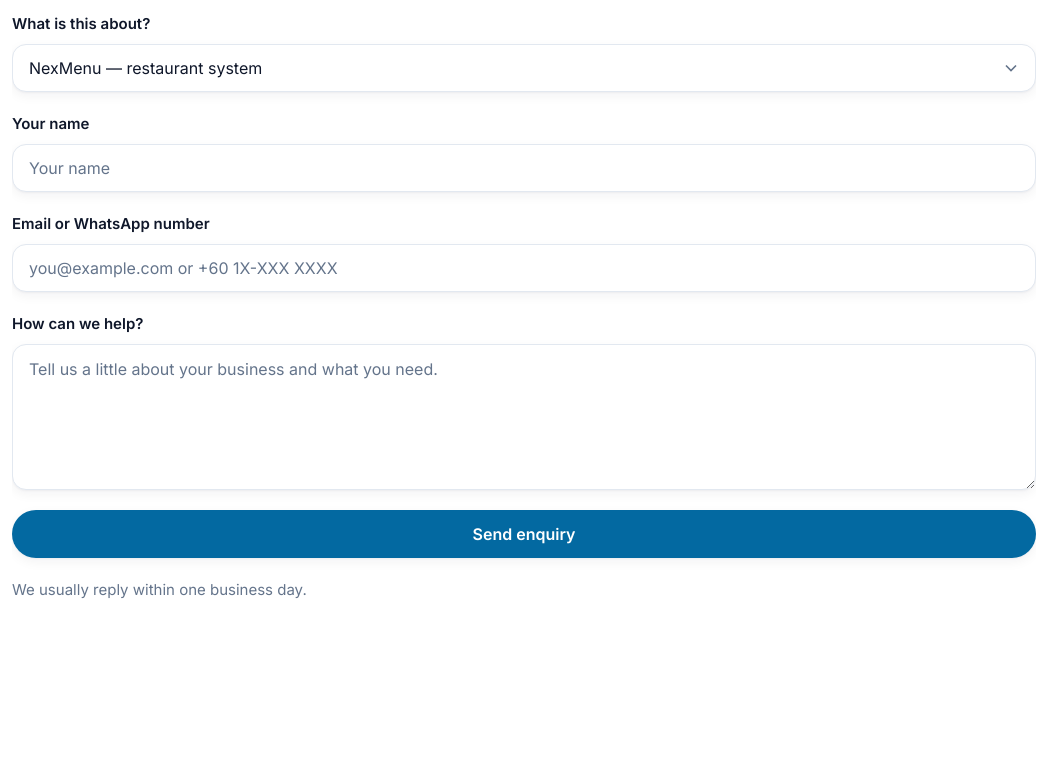
ContactForm › blocks submission and reports accessible errors when fields are invalid
Click the button "Send enquiry" at [524, 534], box [12, 510, 1036, 558]
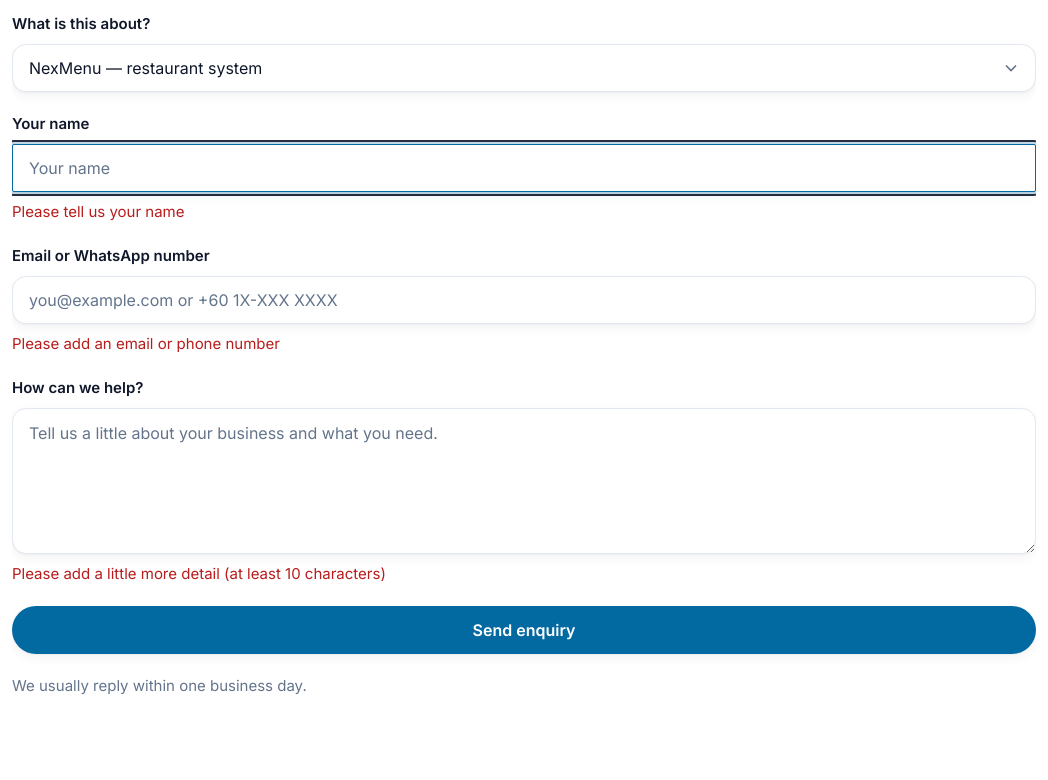
Now the text "Please tell us your name" is shown, box [12, 202, 184, 221]
